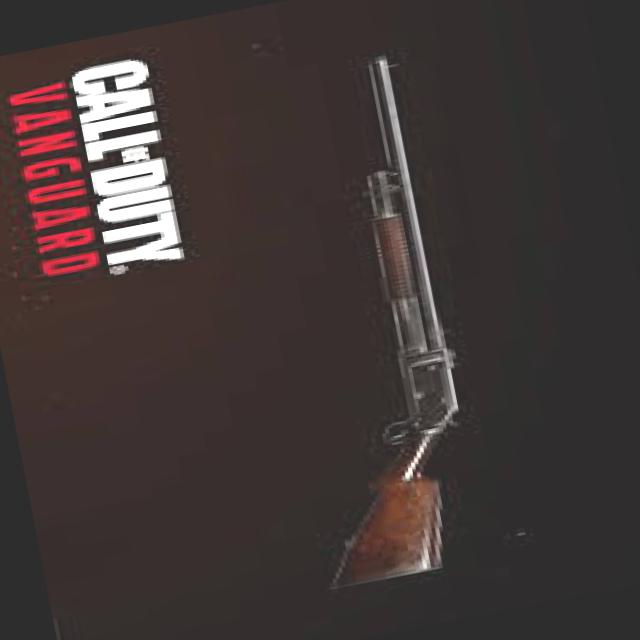long weapon: (333, 37, 479, 588)
